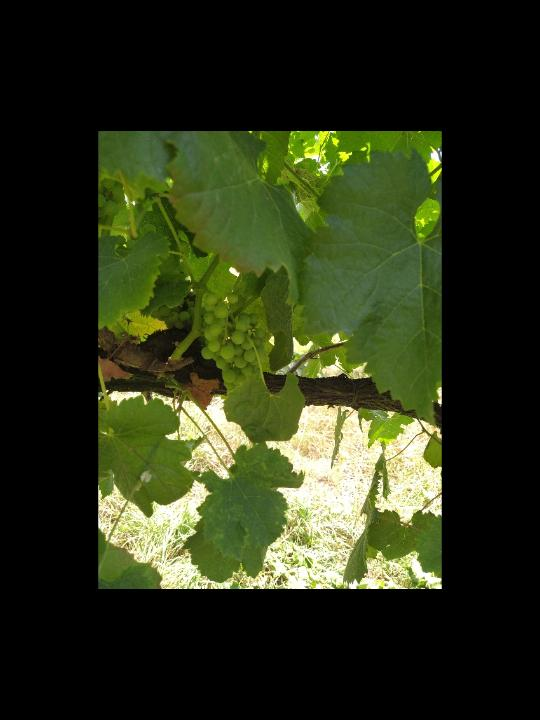grape: (201, 289, 272, 396)
